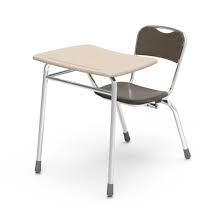desk: (24, 8, 197, 209)
